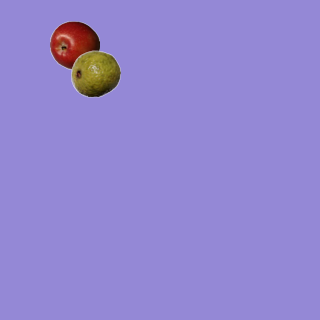Apple Braeburn: (49, 20, 99, 70)
Guava: (70, 48, 120, 98)
